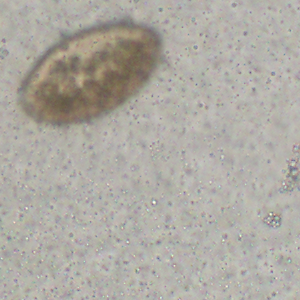Fasciola_hepatica_egg: (16, 18, 162, 126)
